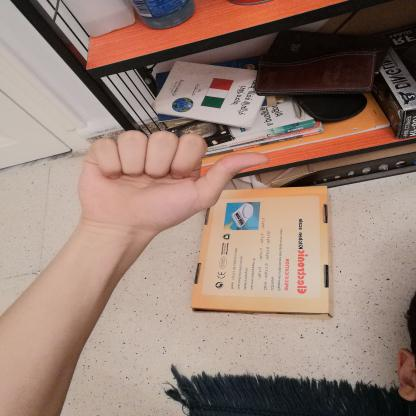DAD: (63, 122, 280, 242)
